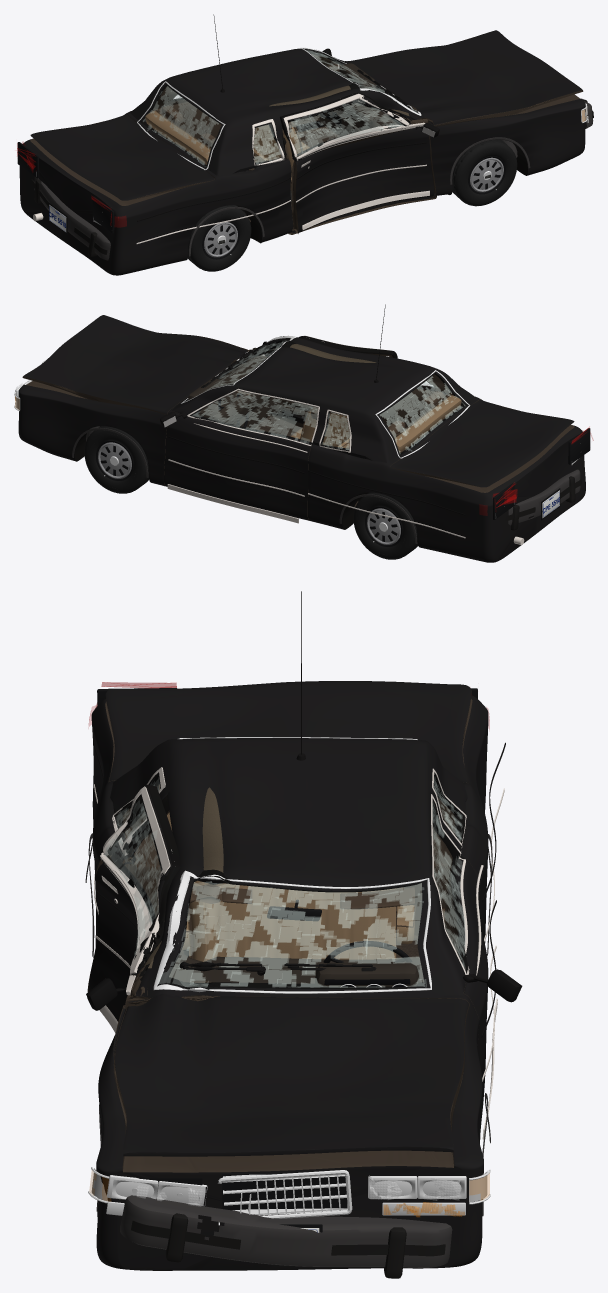
Rendered from coupe84_side_R_d1.glb.
3 views of the same model, one above another, from view 1: azimuth 30°, elevation 25°; view 2: azimuth 150°, elevation 25°; view 3: azimuth 270°, elevation 25° (orthographic). The views are drawn at different scales.
Parts seen in each view (by area): view 1: Body, Hood, Door_FR, Trunk, Interior, Glass, Wheel_FR_mesh, Trim_FR, Wheel_RR_mesh, Glass_FR, Trim, Bumper_R (+2 smaller); view 2: Body, Hood, Door_FL, Trunk, Interior, Glass, Wheel_FL_mesh, Wheel_RL_mesh, Glass_FL, Trim_FL, Trim, Ends (+3 smaller); view 3: Body, Hood, Trunk, Interior, Glass, Bumper_F, Ends, Door_FR, Door_FL, Trim_FR, Trim, Glass_FR (+3 smaller).
Boxes of the visible parts, x1,y1,x2,y2 form: Body: (19,48,585,275); Hood: (347,30,583,126); Door_FR: (280,92,434,233); Trunk: (30,114,215,200); Interior: (145,63,398,189); Glass: (137,47,421,169); Wheel_FR_mesh: (452,139,517,206); Trim_FR: (283,93,439,229); Wheel_RR_mesh: (188,205,251,271); Glass_FR: (282,93,408,161); Trim: (136,14,530,256); Bumper_R: (31,177,110,260); Body: (18,336,585,562); Hood: (22,315,250,414); Door_FL: (164,388,320,520); Trunk: (390,399,574,487); Interior: (188,356,461,452); Glass: (181,335,470,458); Wheel_FL_mesh: (84,426,149,493); Wheel_RL_mesh: (353,492,418,559); Glass_FL: (190,388,319,446); Trim_FL: (160,388,319,523); Trim: (72,304,465,543); Ends: (14,360,590,520); Body: (91,695,488,1270); Hood: (114,994,469,1156); Trunk: (105,681,471,783); Interior: (158,785,423,987); Glass: (113,737,462,993); Bumper_F: (120,1195,452,1278); Ends: (88,688,490,1232); Door_FR: (87,784,180,1021); Door_FL: (430,793,488,1128); Trim_FR: (86,786,174,1033); Trim: (85,591,505,1216); Glass_FR: (99,800,176,975).
Size of the model in its own units: 5.18 by 2.1 by 1.95.
34 materials, 5 textured.
